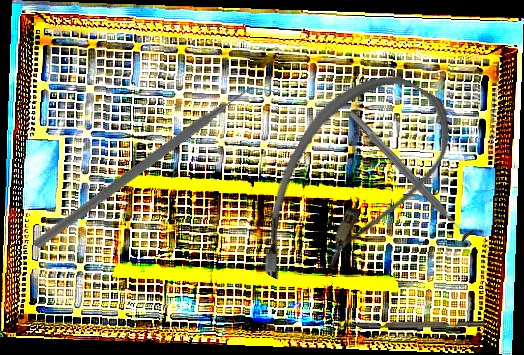Cannula: (235, 49, 468, 322)
Chopper: (31, 28, 278, 309), (338, 321, 485, 334)
Fixation Ring: (341, 103, 484, 250)
